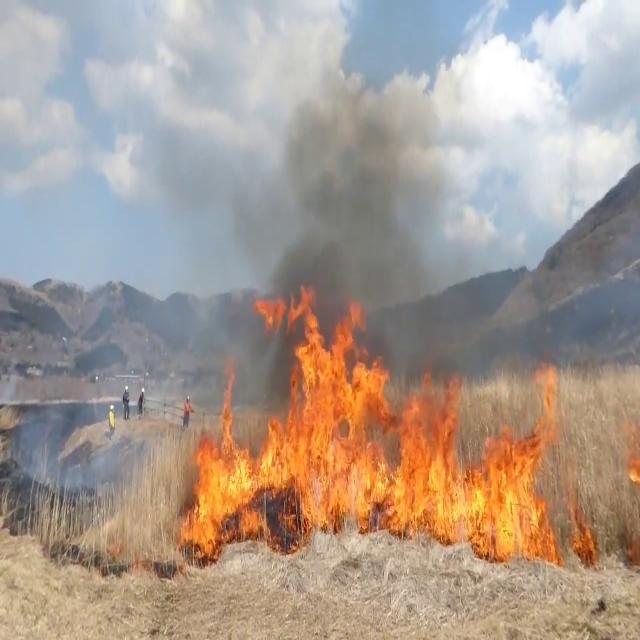Fire: (179, 284, 573, 554)
Smoke: (168, 63, 452, 377)
